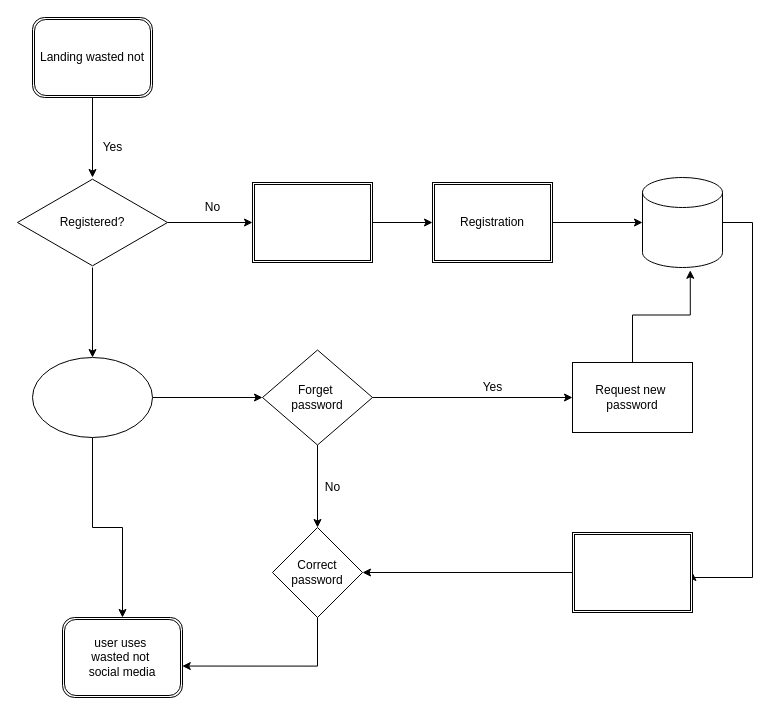
Some shapes in this 778 by 715 pixel diagram are drawn without their labels. The shapes that lost their labels are listed below. From the top down, each one's centre as x and y in pixels, then its label:
At point (312, 222): "new user".
At point (682, 222): "user database".
At point (92, 397): "Login".
At point (632, 572): "New password".
